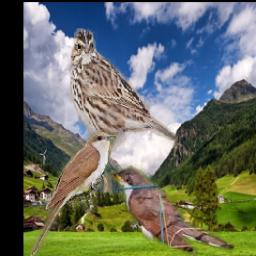Cuckoo: (108, 163, 235, 256), (30, 131, 117, 256)
Sparrow: (71, 28, 179, 193)
